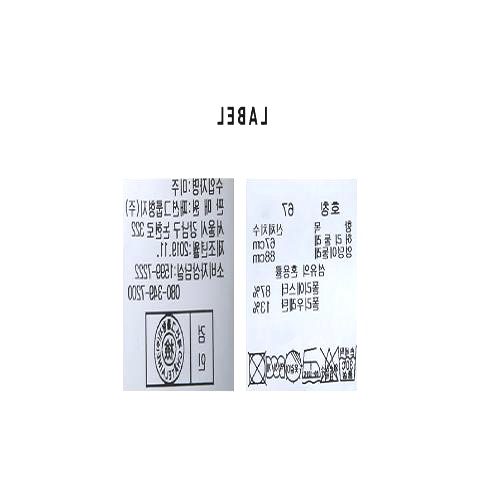DN_bleach: (318, 346, 340, 383)
DN_tumble_dry: (245, 349, 268, 386)
hand_wash: (335, 343, 358, 383)
iron_low: (298, 344, 321, 384)
line_dry_in_shade: (283, 350, 303, 383)
wring: (262, 353, 288, 381)
